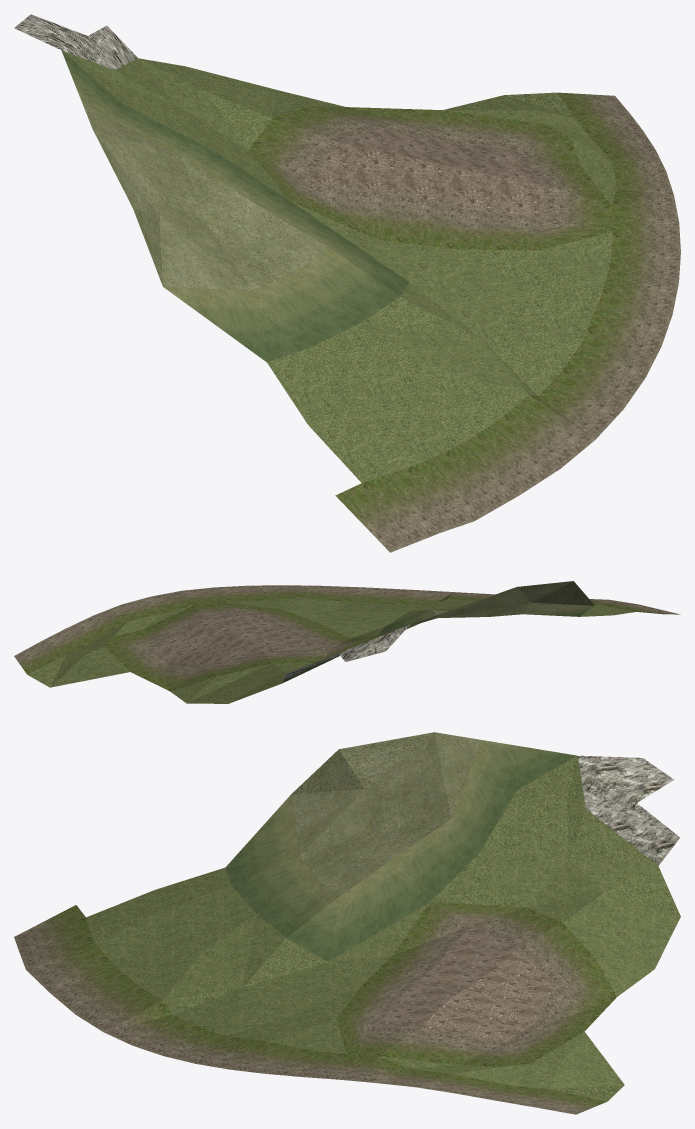
File: cunteground25.obj
3 views of the same model, one above another, from view 1: azimuth 30°, elevation 25°; view 2: azimuth 150°, elevation 25°; view 3: azimuth 270°, elevation 25° (orthographic). The views are drawn at different scales.
Visible parts, largest first — view 1: cuntEground25; view 2: cuntEground25; view 3: cuntEground25.
Boxes of the visible parts, x1,y1,x2,y2 form: cuntEground25: (14, 14, 680, 552); cuntEground25: (14, 581, 680, 703); cuntEground25: (14, 732, 680, 1114).
Size of the model in its own units: 228 by 82.61 by 261.
